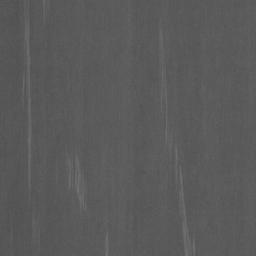Silk spot: (12, 0, 54, 184), (157, 114, 201, 256), (59, 149, 100, 210), (150, 56, 172, 88), (95, 223, 115, 256)
